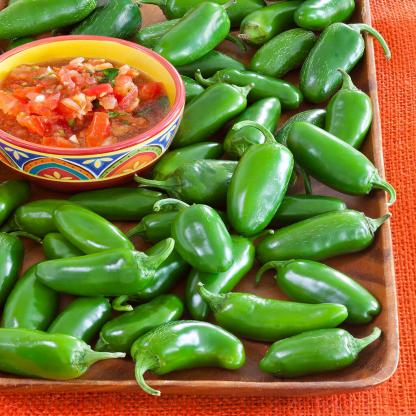--: (282, 108, 392, 196), (226, 110, 296, 244), (126, 314, 250, 387), (30, 247, 197, 298), (299, 13, 376, 101), (258, 325, 382, 376), (152, 0, 238, 66)
